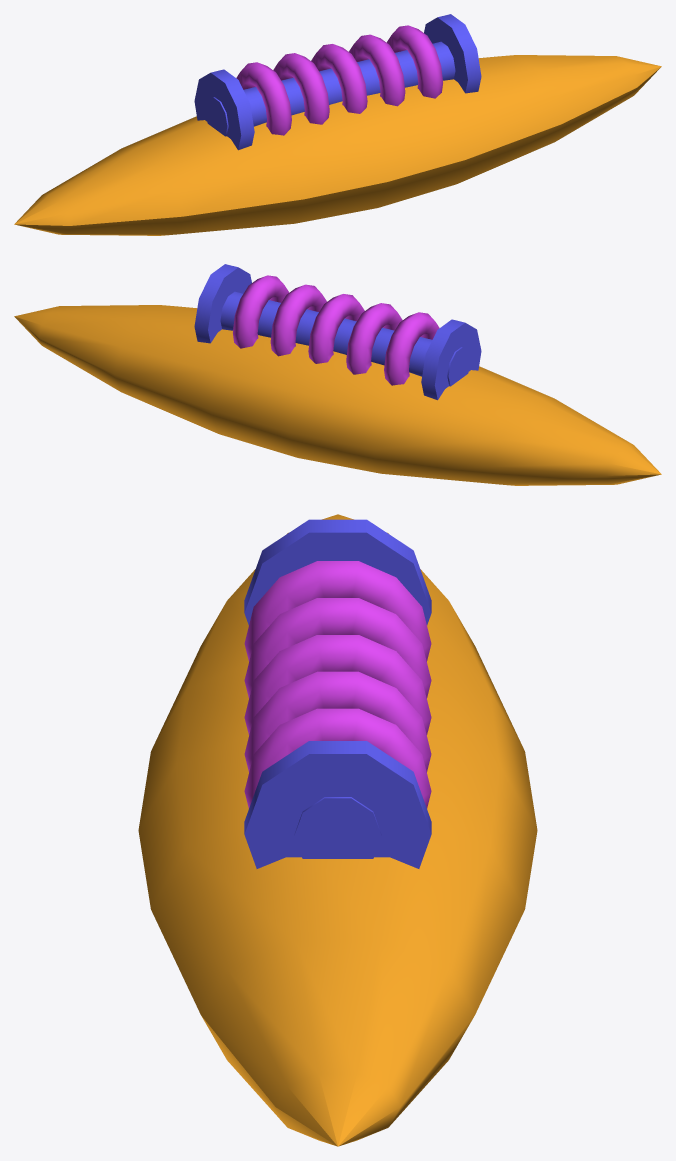
Rendered from shuttle.glb.
3 renders of one model, top to bottom at view 1: azimuth 30°, elevation 25°; view 2: azimuth 150°, elevation 25°; view 3: azimuth 270°, elevation 25°, orthographic. The views are drawn at different scales.
Visible parts, largest first — view 1: Body, Thread, Bobbin; view 2: Body, Thread, Bobbin; view 3: Body, Thread, Bobbin.
Part boxes in pixels (x1,y1,x2,y2): Body: (14, 55, 661, 235); Thread: (236, 25, 442, 135); Bobbin: (194, 14, 481, 150); Body: (14, 305, 661, 485); Thread: (233, 275, 439, 385); Bobbin: (194, 264, 481, 400); Body: (138, 514, 537, 1146); Thread: (244, 561, 431, 808); Bobbin: (244, 519, 431, 868).
Bounding box in the file's own units: 2.4 × 0.5349 × 0.64.
